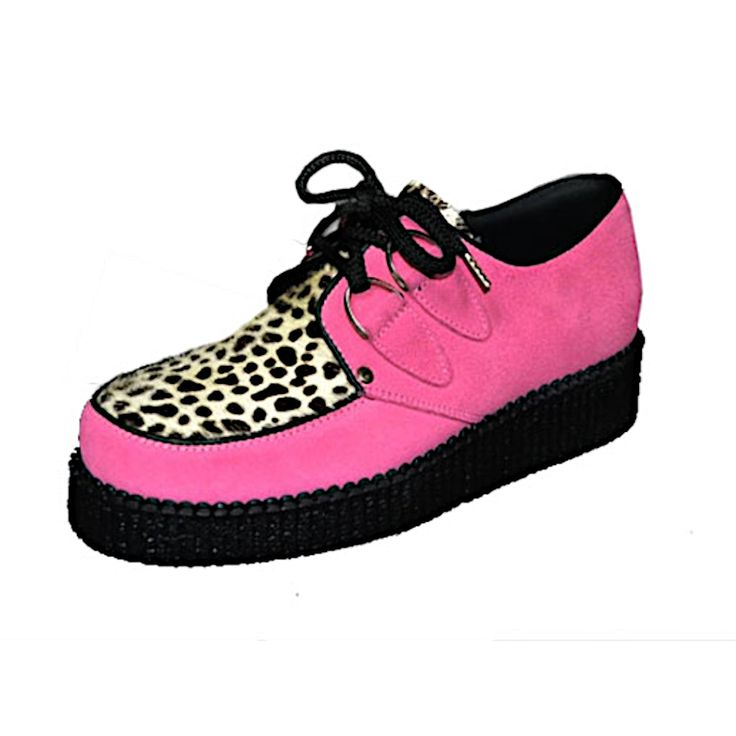gamuza: (79, 175, 642, 503)
